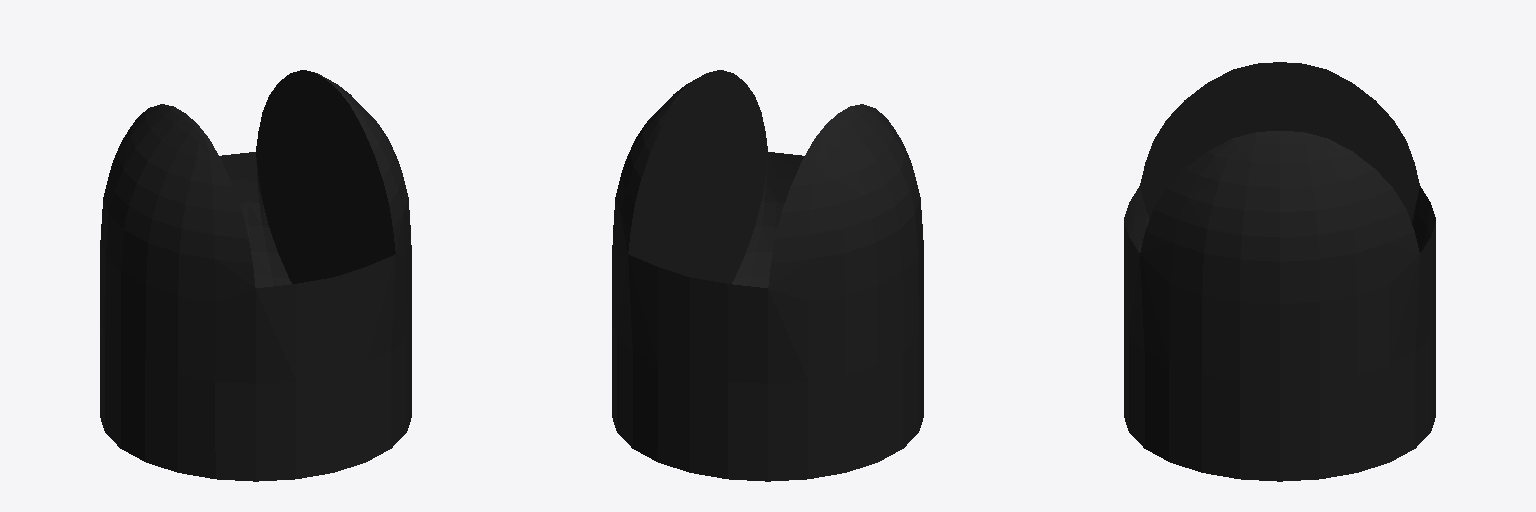
Rendered from Tr-Grue-LeverBase-Z_02.obj.
3 views of the same model, side by side, from view 1: azimuth 30°, elevation 25°; view 2: azimuth 150°, elevation 25°; view 3: azimuth 270°, elevation 25° (orthographic).
Visible parts, largest first — view 1: Tr-Grue-LeverBase-Z_02_BaseLevier.010; view 2: Tr-Grue-LeverBase-Z_02_BaseLevier.010; view 3: Tr-Grue-LeverBase-Z_02_BaseLevier.010.
Boxes of the visible parts, x1=… form: Tr-Grue-LeverBase-Z_02_BaseLevier.010: x1=100, y1=70, x2=411, y2=481; Tr-Grue-LeverBase-Z_02_BaseLevier.010: x1=612, y1=70, x2=923, y2=481; Tr-Grue-LeverBase-Z_02_BaseLevier.010: x1=1124, y1=62, x2=1435, y2=481.
Bounding box in the file's own units: 0.0725 × 0.0816 × 0.0725.